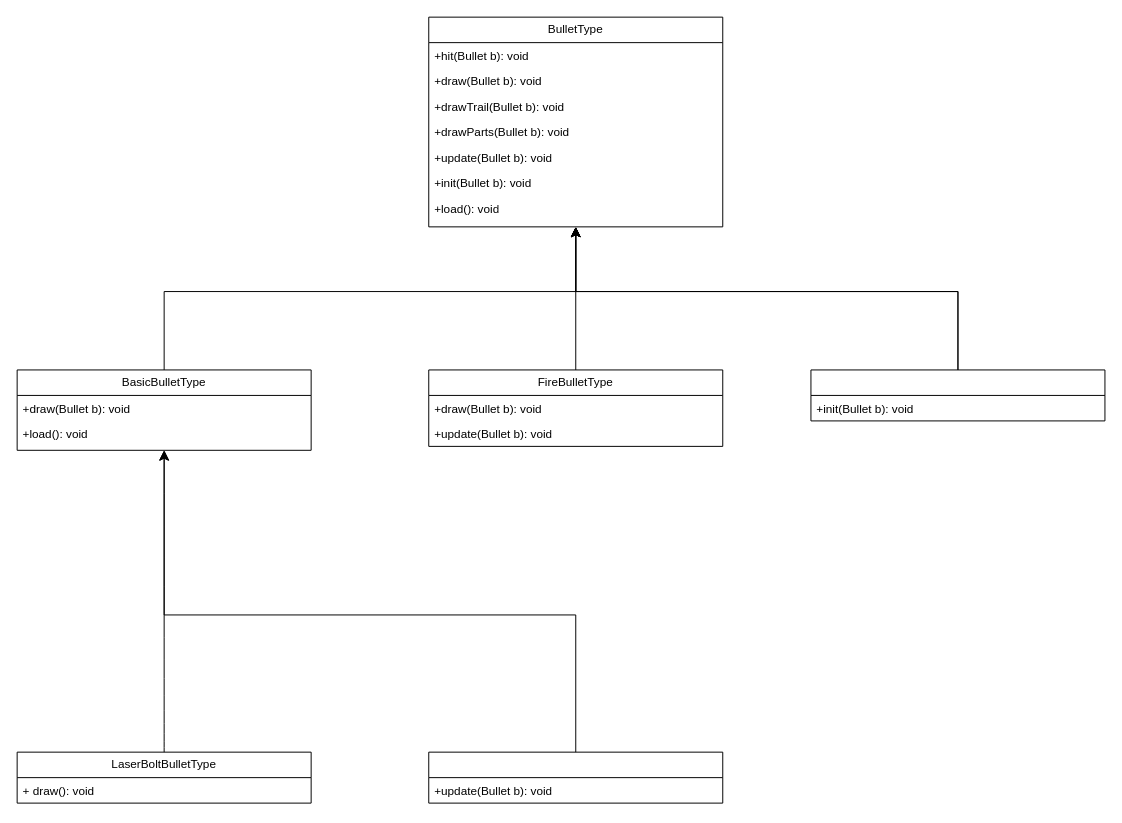
This 1122x823 diagram has some shape labels left out. Each missing label, with the box of its shape:
ArtilleryBulletType: (428, 751, 723, 803)
PointBulletType: (810, 369, 1105, 421)
